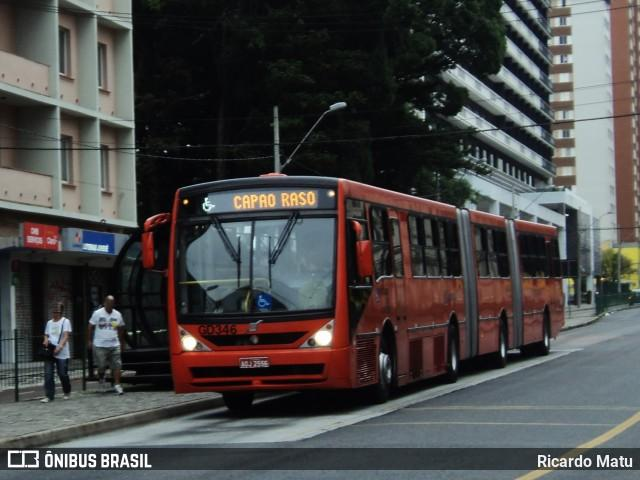CAPAO RASO: (229, 188, 320, 215)
